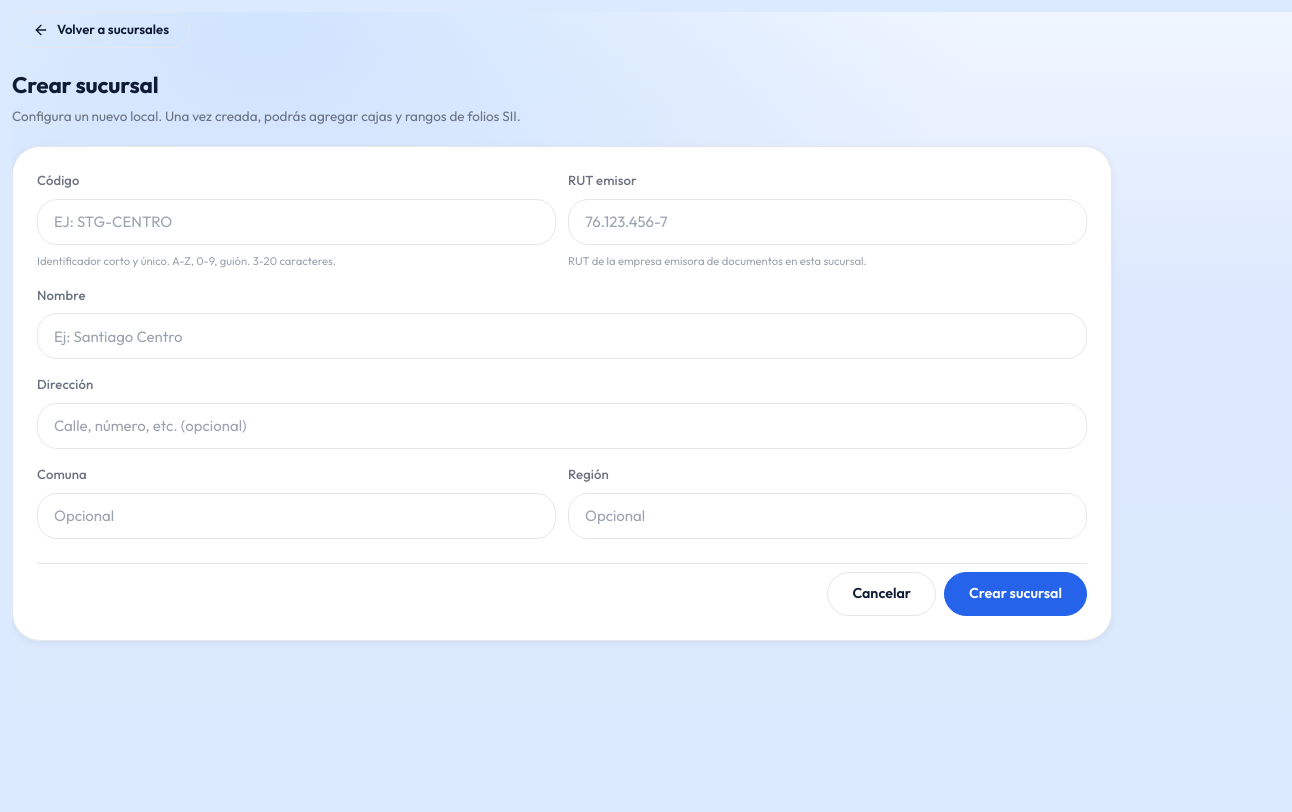
Test: EditarSucursalPage (crear) › envía payload válido a crearSucursal
Step 1. Type "STG-CENTRO" into the field labelled "Código" → coordinates (296, 222), box [38,200,555,244]
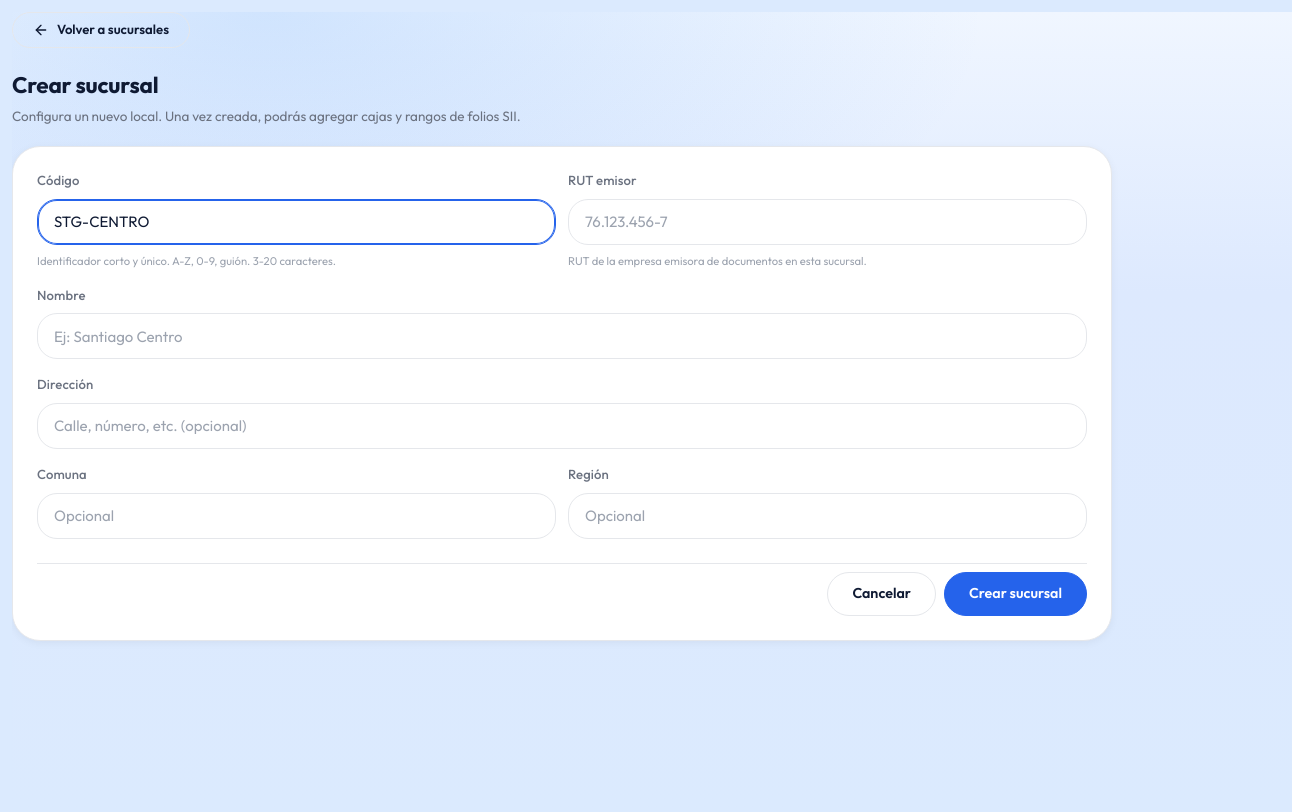
Step 2. Type "Santiago Centro" into the field labelled "Nombre" → coordinates (562, 336), box [38,314,1086,358]
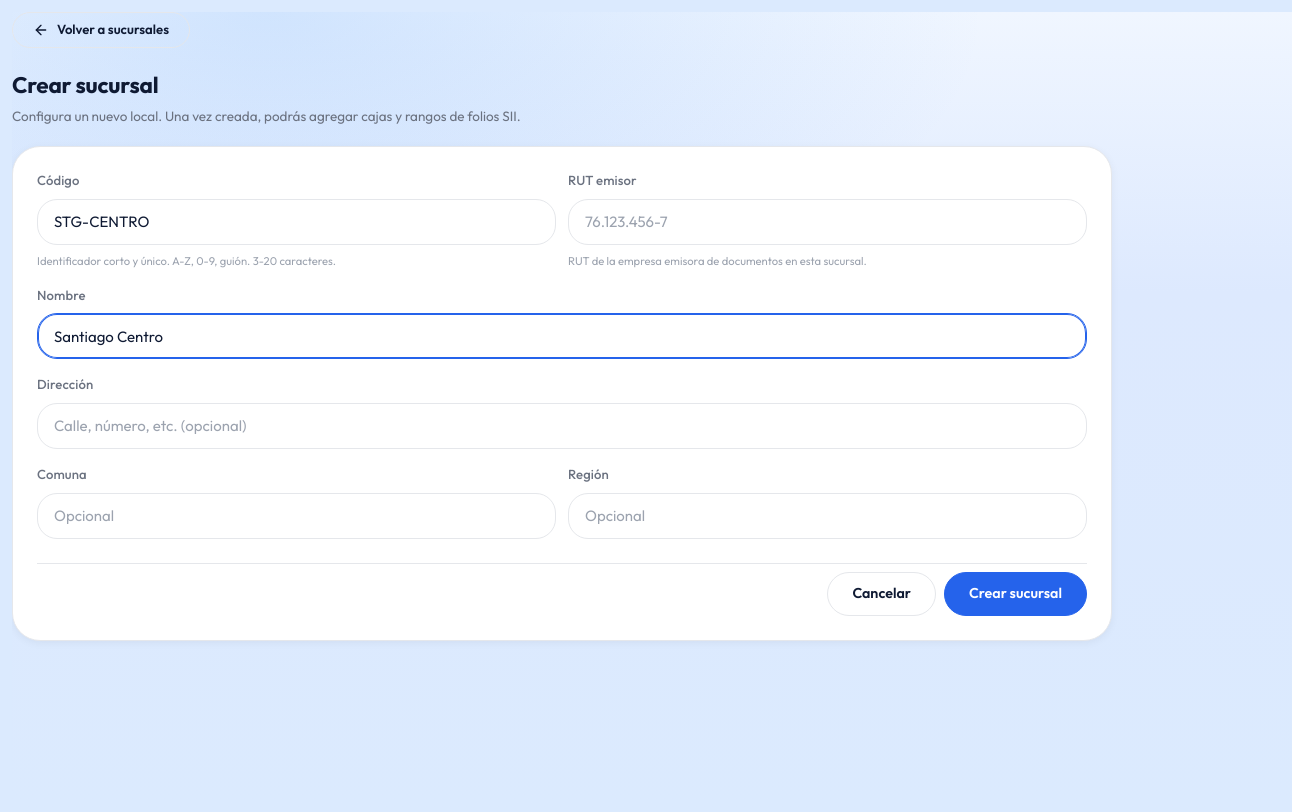
// RUT chileno válido: 12345678-5
Step 3. Type "12345678-5" into the field labelled "RUT emisor" → coordinates (828, 222), box [569,200,1086,244]
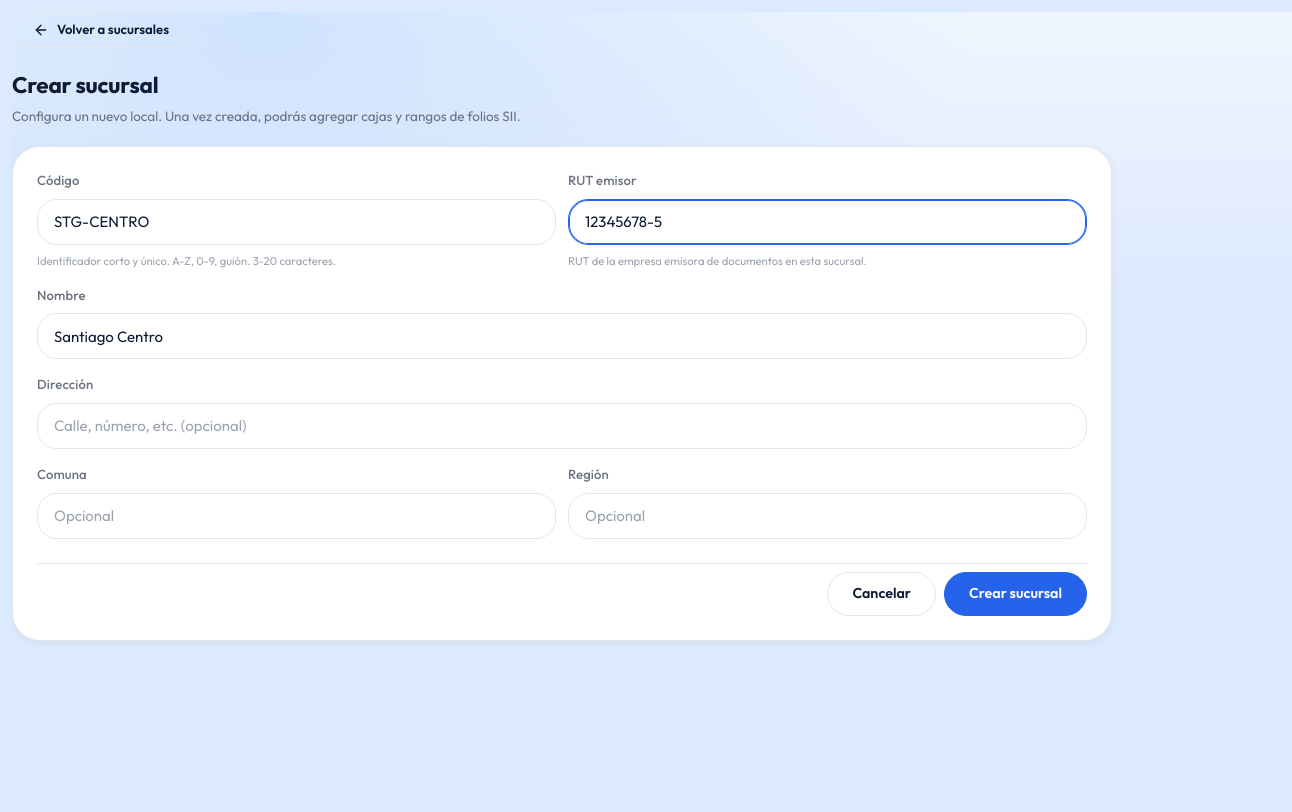
Step 4. Click the button "Crear sucursal" → coordinates (1016, 594), box [944,572,1087,616]
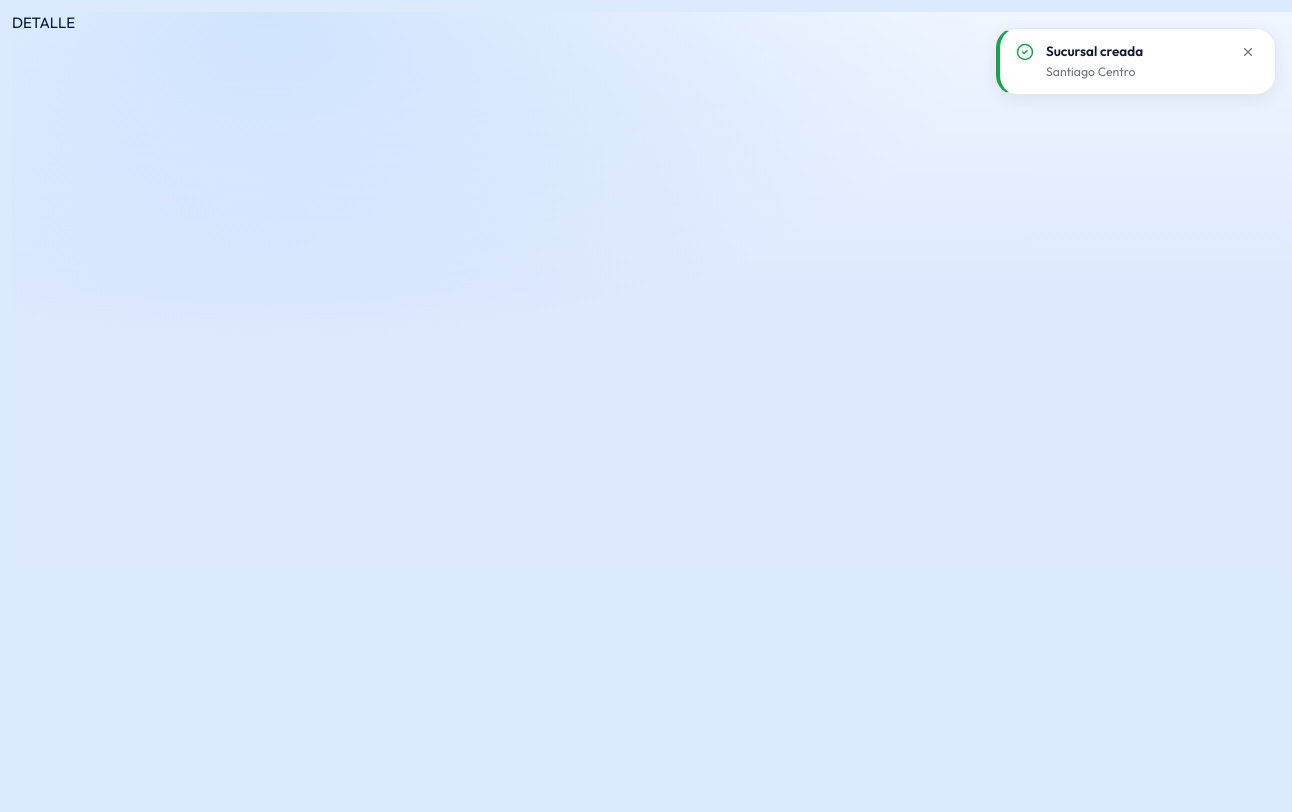
Expected: the text "Santiago Centro" is shown, [1046,64,1135,79]
